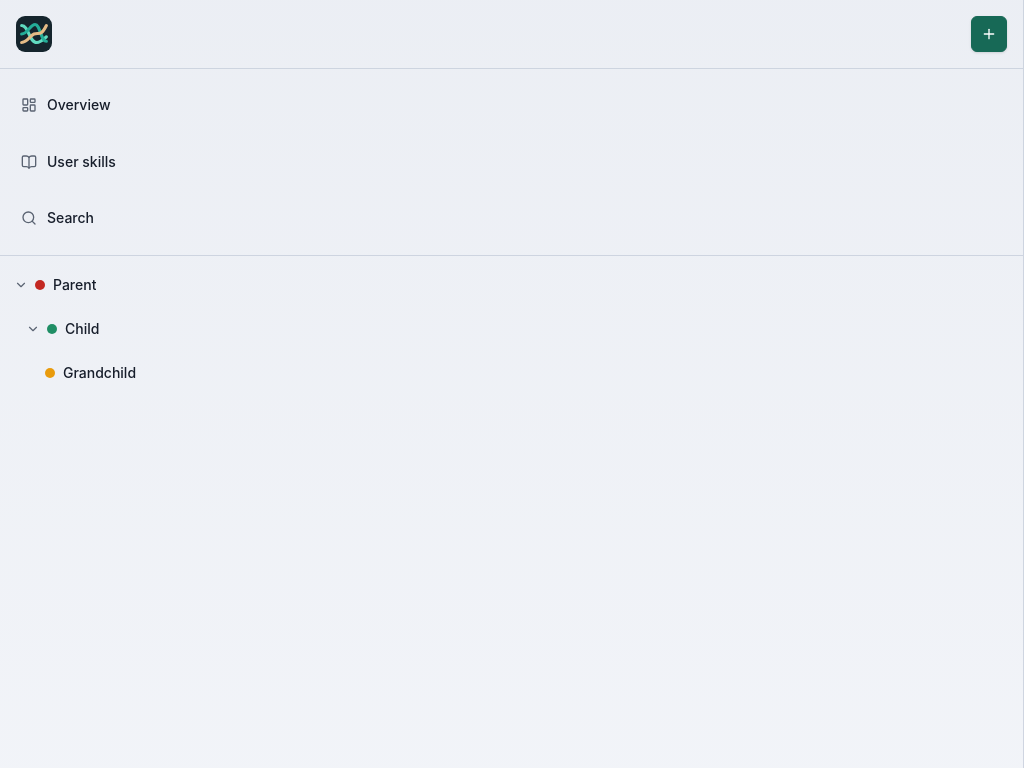
Test: session list renders expandable lineage without descendant count badges
Click the button named "Collapse Parent" at coordinates (21, 285), box x1=11 y1=275 x2=31 y2=295
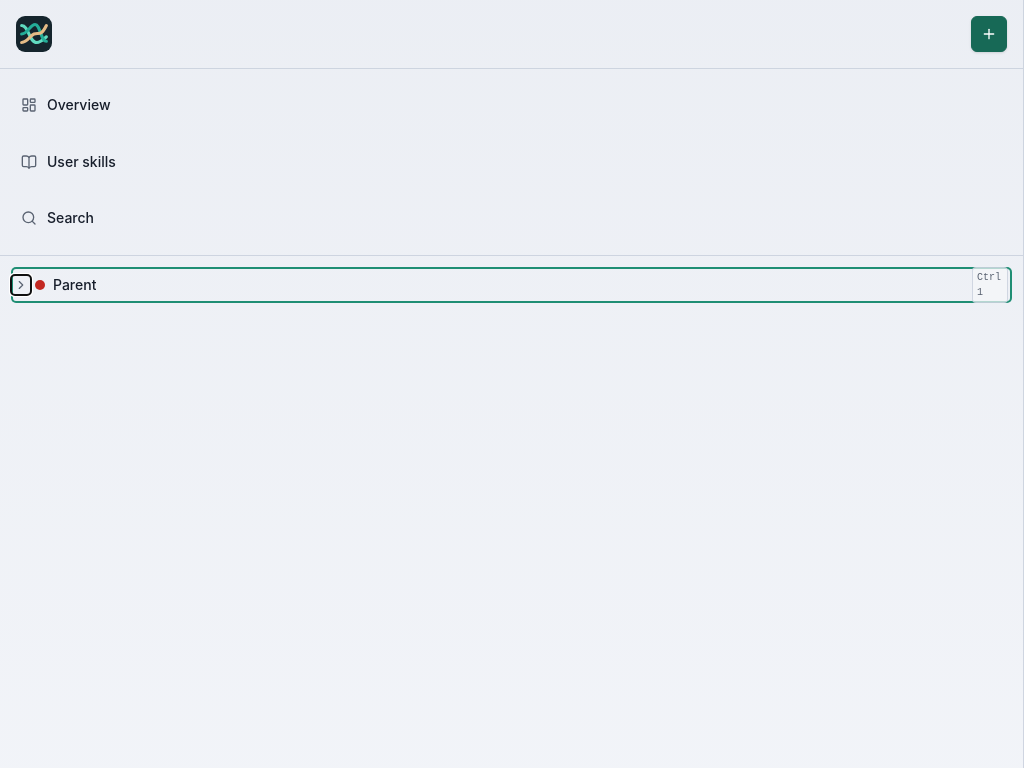
Expected: the button "Child" is gone
Click the button named "Expand Parent" at coordinates (21, 285), box x1=11 y1=275 x2=31 y2=295
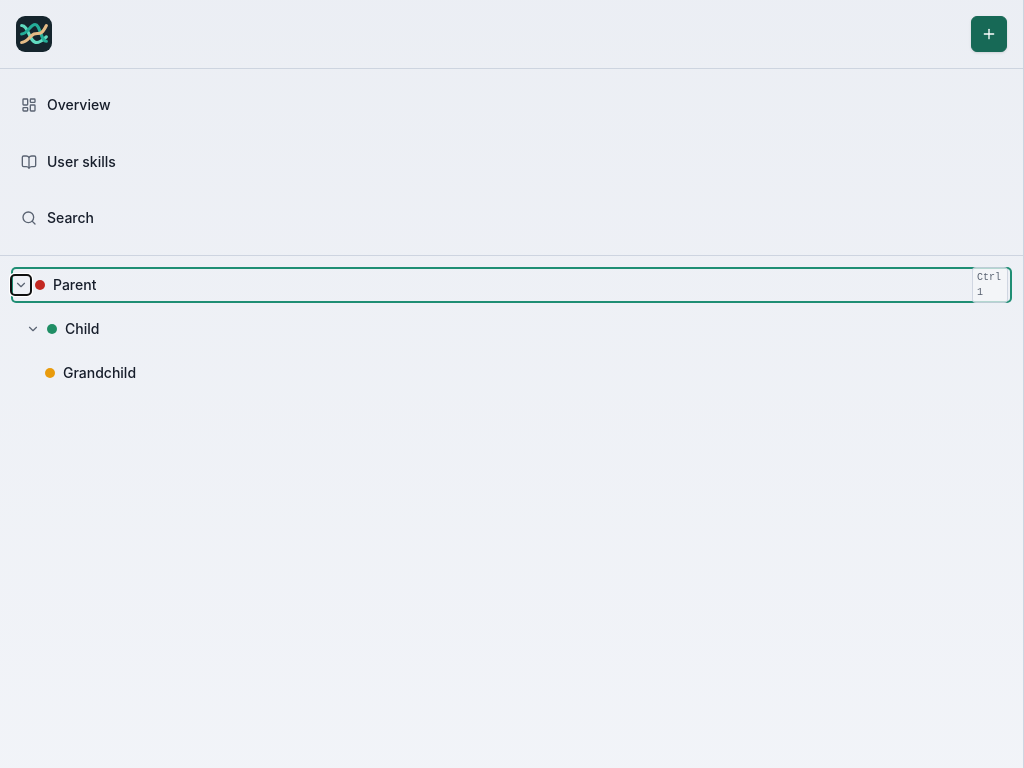
Expected: the button "Child" is shown, x1=43 y1=311 x2=1012 y2=347
